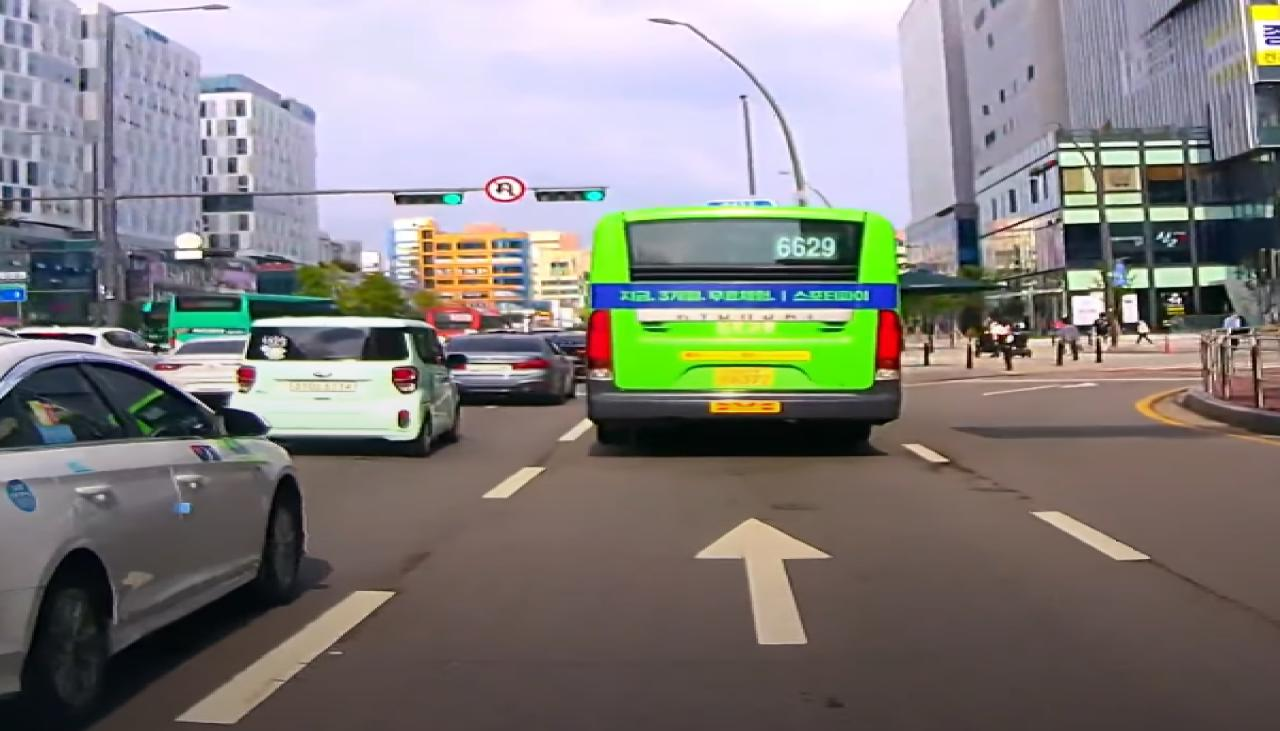Green Light: (440, 192, 462, 206)
